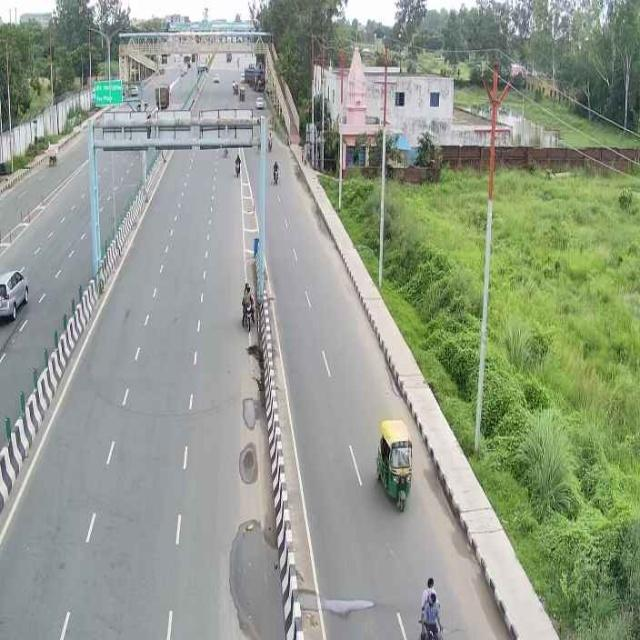car: (1, 262, 32, 325)
